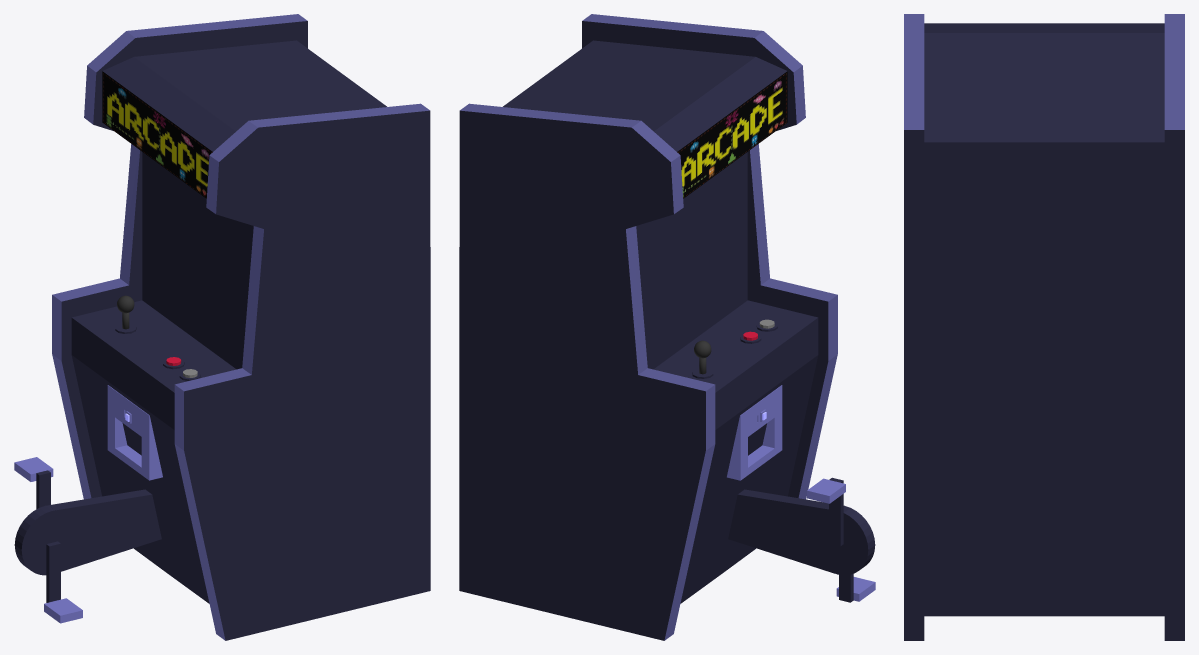
The model's file is arcade_2.0.gltf.
3 renders of one model, left to right at view 1: azimuth 30°, elevation 25°; view 2: azimuth 150°, elevation 25°; view 3: azimuth 270°, elevation 25°, orthographic. The views are drawn at different scales.
Visible parts, largest first — view 1: Corpus, pedalMashine, Cylinder, coinMashine, pedalLeft, pedalRight; view 2: Corpus, pedalMashine, Cylinder, coinMashine, pedalRight; view 3: Corpus.
Boxes of the visible parts, <box> form: Corpus: <box>52,14,430,640</box>; pedalMashine: <box>49,489,161,571</box>; Cylinder: <box>14,470,60,602</box>; coinMashine: <box>107,385,162,480</box>; pedalLeft: <box>44,598,82,623</box>; pedalRight: <box>14,457,53,481</box>; Corpus: <box>459,14,837,640</box>; pedalMashine: <box>728,489,834,573</box>; Cylinder: <box>829,477,875,602</box>; coinMashine: <box>727,385,782,480</box>; pedalRight: <box>807,478,845,503</box>; Corpus: <box>904,14,1184,640</box>.
Bounding box in the file's own units: 73.31 × 102 × 48.37.
9 materials, 1 textured.
